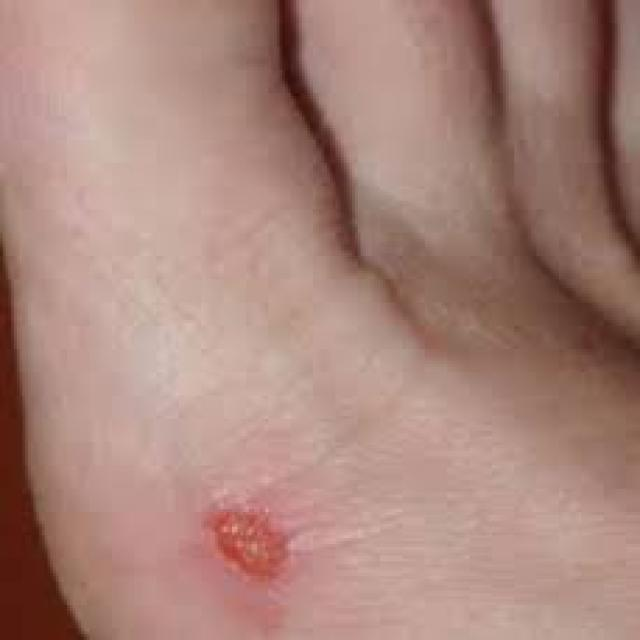stage-2: (205, 507, 296, 581)
